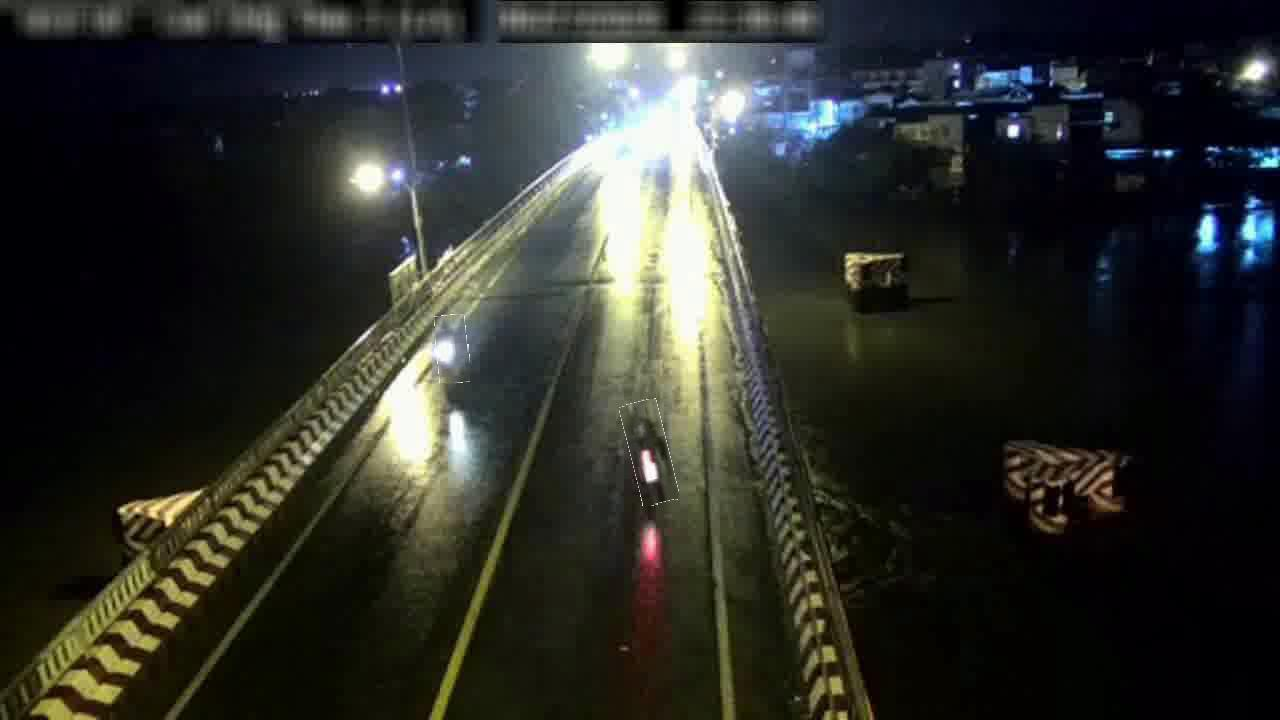motorbike: (625, 400, 675, 506), (436, 314, 470, 384)
